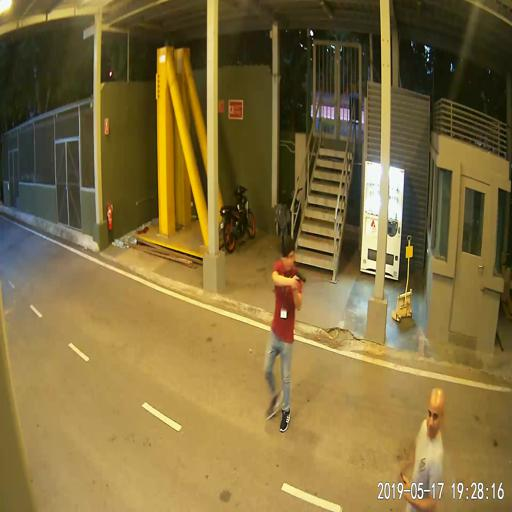pistol: (293, 270, 305, 289)
